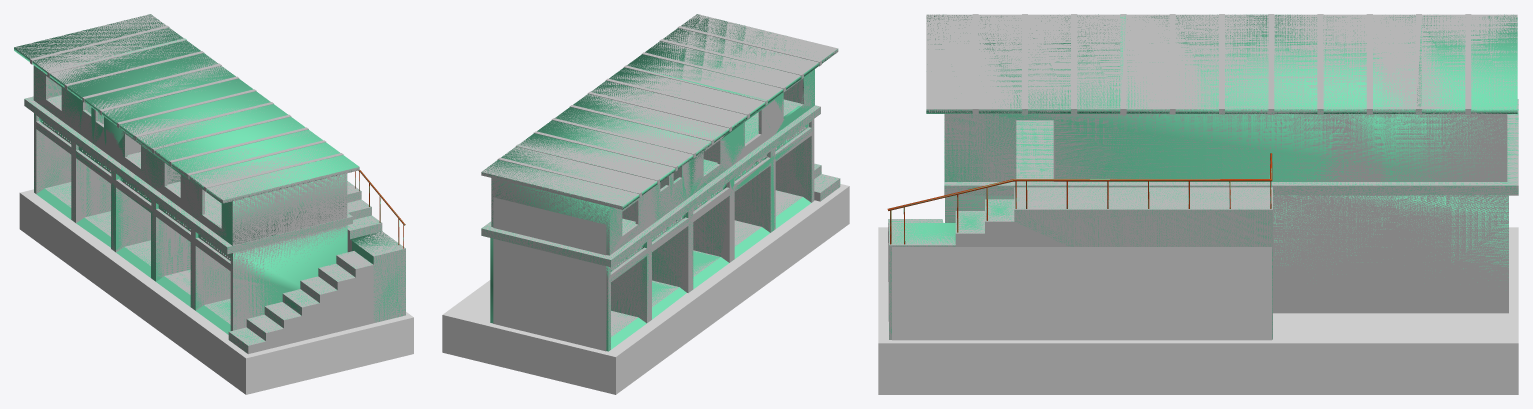
The model's file is CASA 21.fbx.
3 renders of one model, left to right at view 1: azimuth 30°, elevation 25°; view 2: azimuth 150°, elevation 25°; view 3: azimuth 270°, elevation 25°, orthographic. The views are drawn at different scales.
Parts seen in each view (by area): view 1: CASA21_LOD0, UTM_CASA21, Cube_LOD0; view 2: CASA21_LOD0, UTM_CASA21, Cube_LOD0, OCC_Oclusion1; view 3: CASA21_LOD0, UTM_CASA21, Cube_LOD0, OCC_Oclusion2.
Boxes of the visible parts, bbox=[...] form: CASA21_LOD0: bbox=[15, 14, 405, 353]; UTM_CASA21: bbox=[14, 14, 405, 352]; Cube_LOD0: bbox=[19, 189, 413, 394]; CASA21_LOD0: bbox=[481, 14, 840, 349]; UTM_CASA21: bbox=[481, 14, 840, 351]; Cube_LOD0: bbox=[442, 184, 849, 394]; OCC_Oclusion1: bbox=[493, 197, 606, 351]; CASA21_LOD0: bbox=[887, 14, 1518, 339]; UTM_CASA21: bbox=[888, 14, 1518, 339]; Cube_LOD0: bbox=[878, 227, 1518, 394]; OCC_Oclusion2: bbox=[892, 247, 1271, 340].
Size of what is drawn, in the model's own units: 997 by 1006 by 2242.
